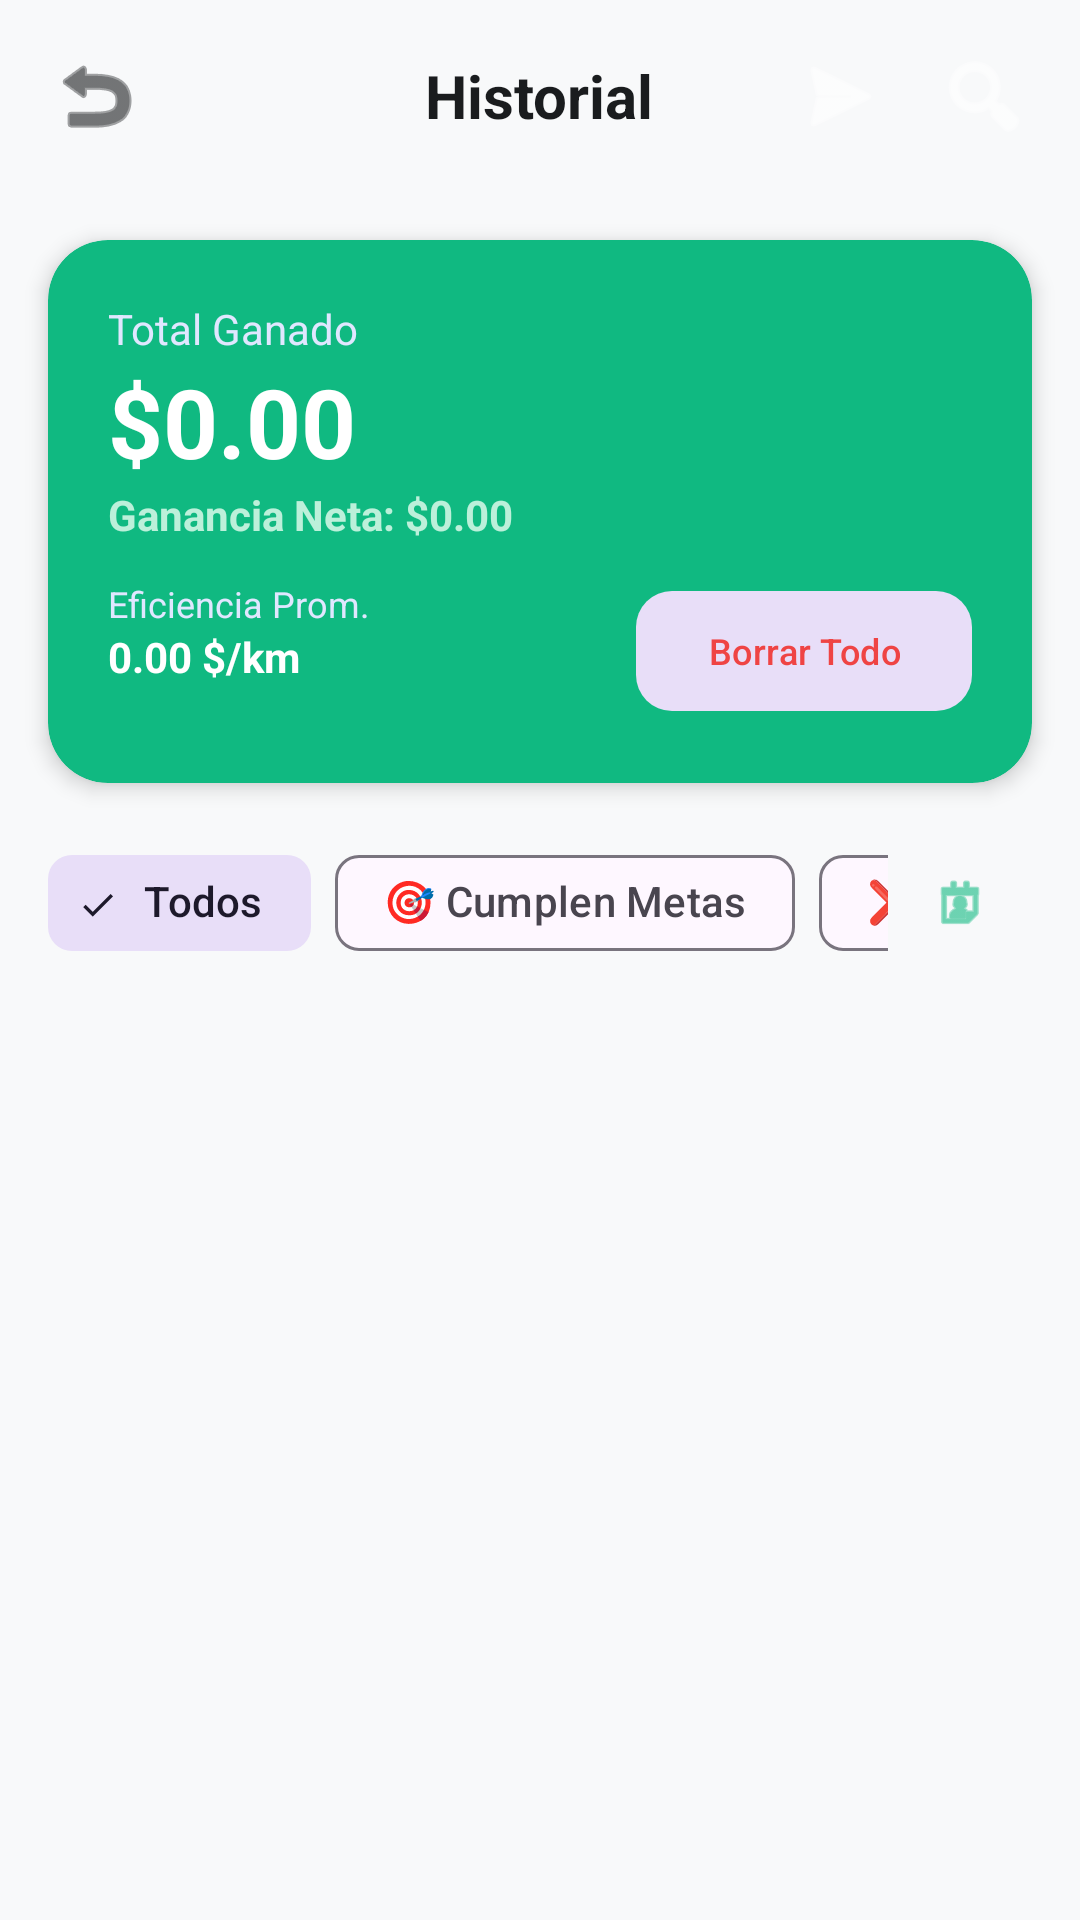

Icons on this 1080x1920 Android screen, each with the point to tap as point (x, y):
calendar: point (960, 902)
revert: point (97, 96)
